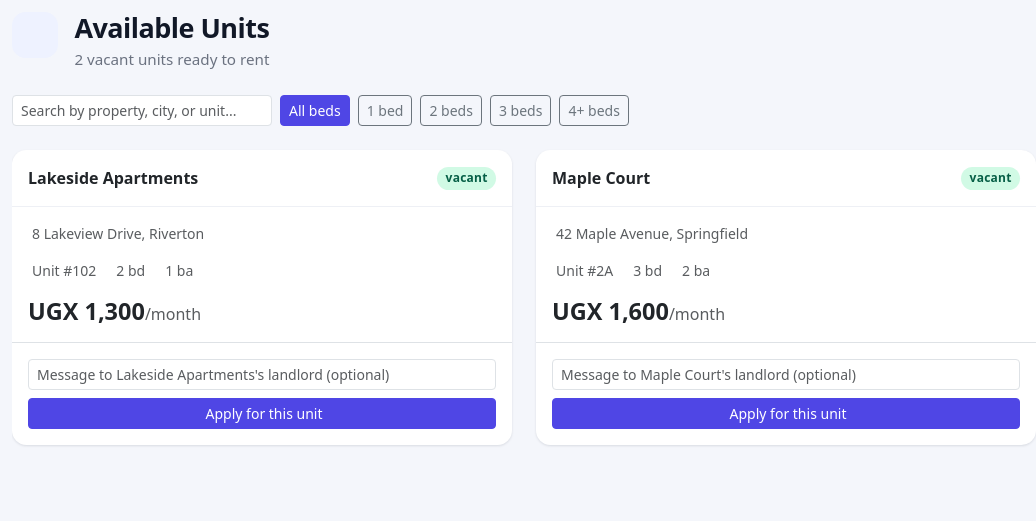
Test case: BrowseUnits › submits the typed message with the unit and shows success
In the field with placeholder "Message to Lakeside Apartments's landlord (optional)": (262, 375) [28,359,496,390], type "Hi, I love the layout!"
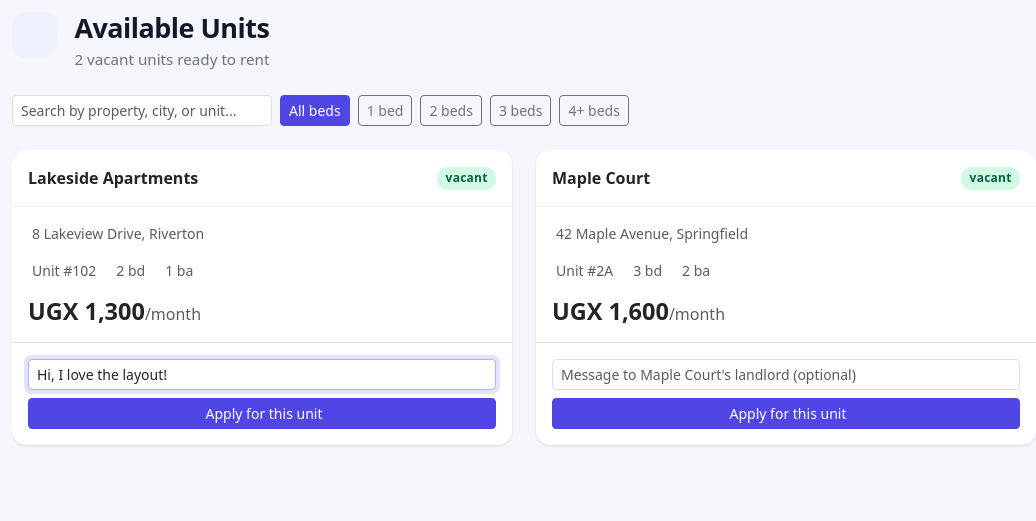
Click the button "Apply for this unit" below "1,300": (262, 414) [28,398,496,429]
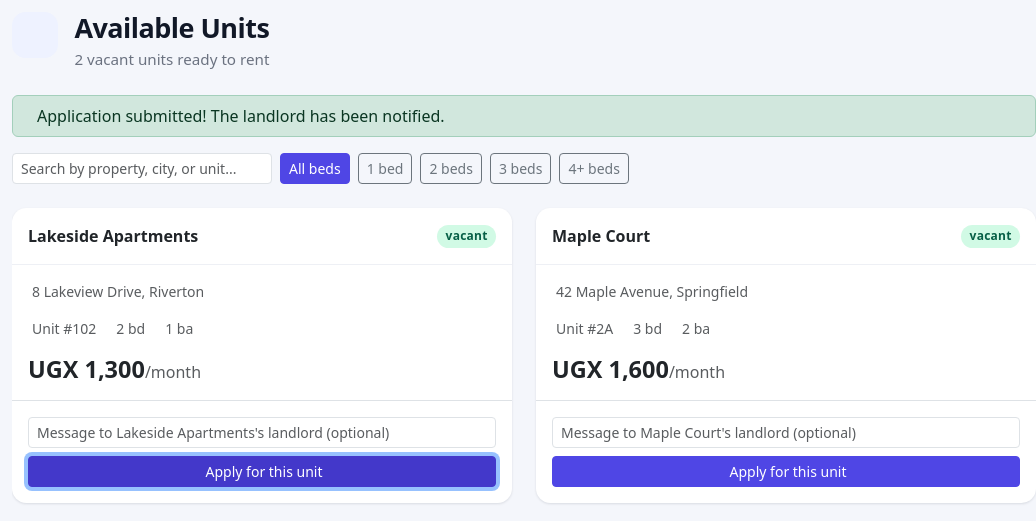
Check: the text "Application submitted! The landlord has been notified." is shown, box [37,104,445,128]
Check: the field with placeholder "Message to Lakeside Apartments's landlord (optional)" is empty, box [28,417,496,448]
